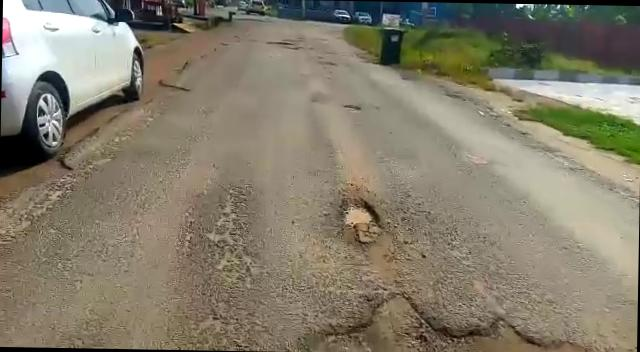pothole: (299, 289, 635, 352), (339, 196, 384, 236)
